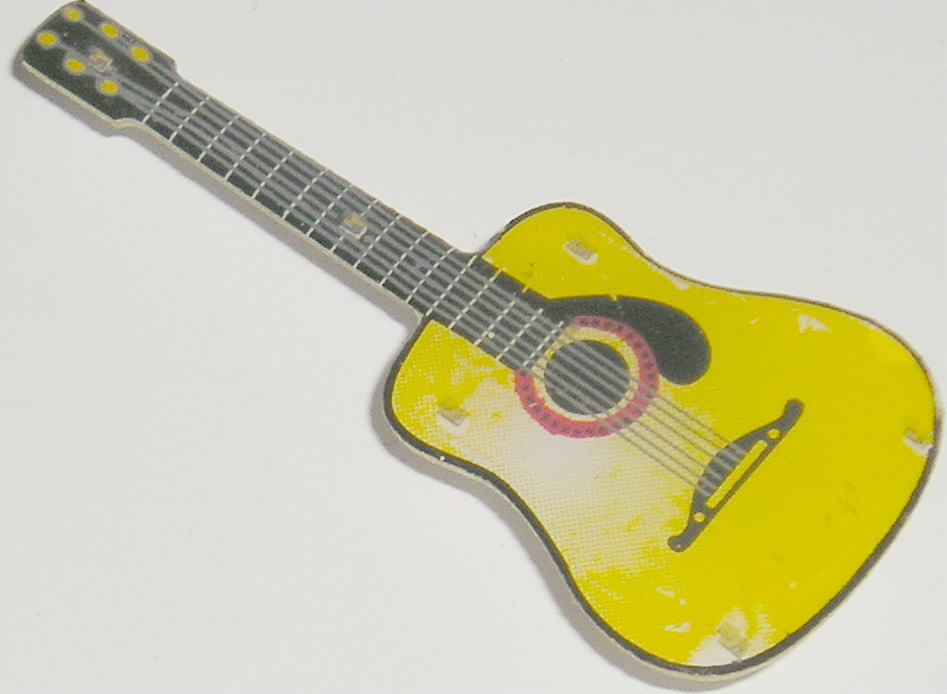guitar: (14, 2, 940, 688)
